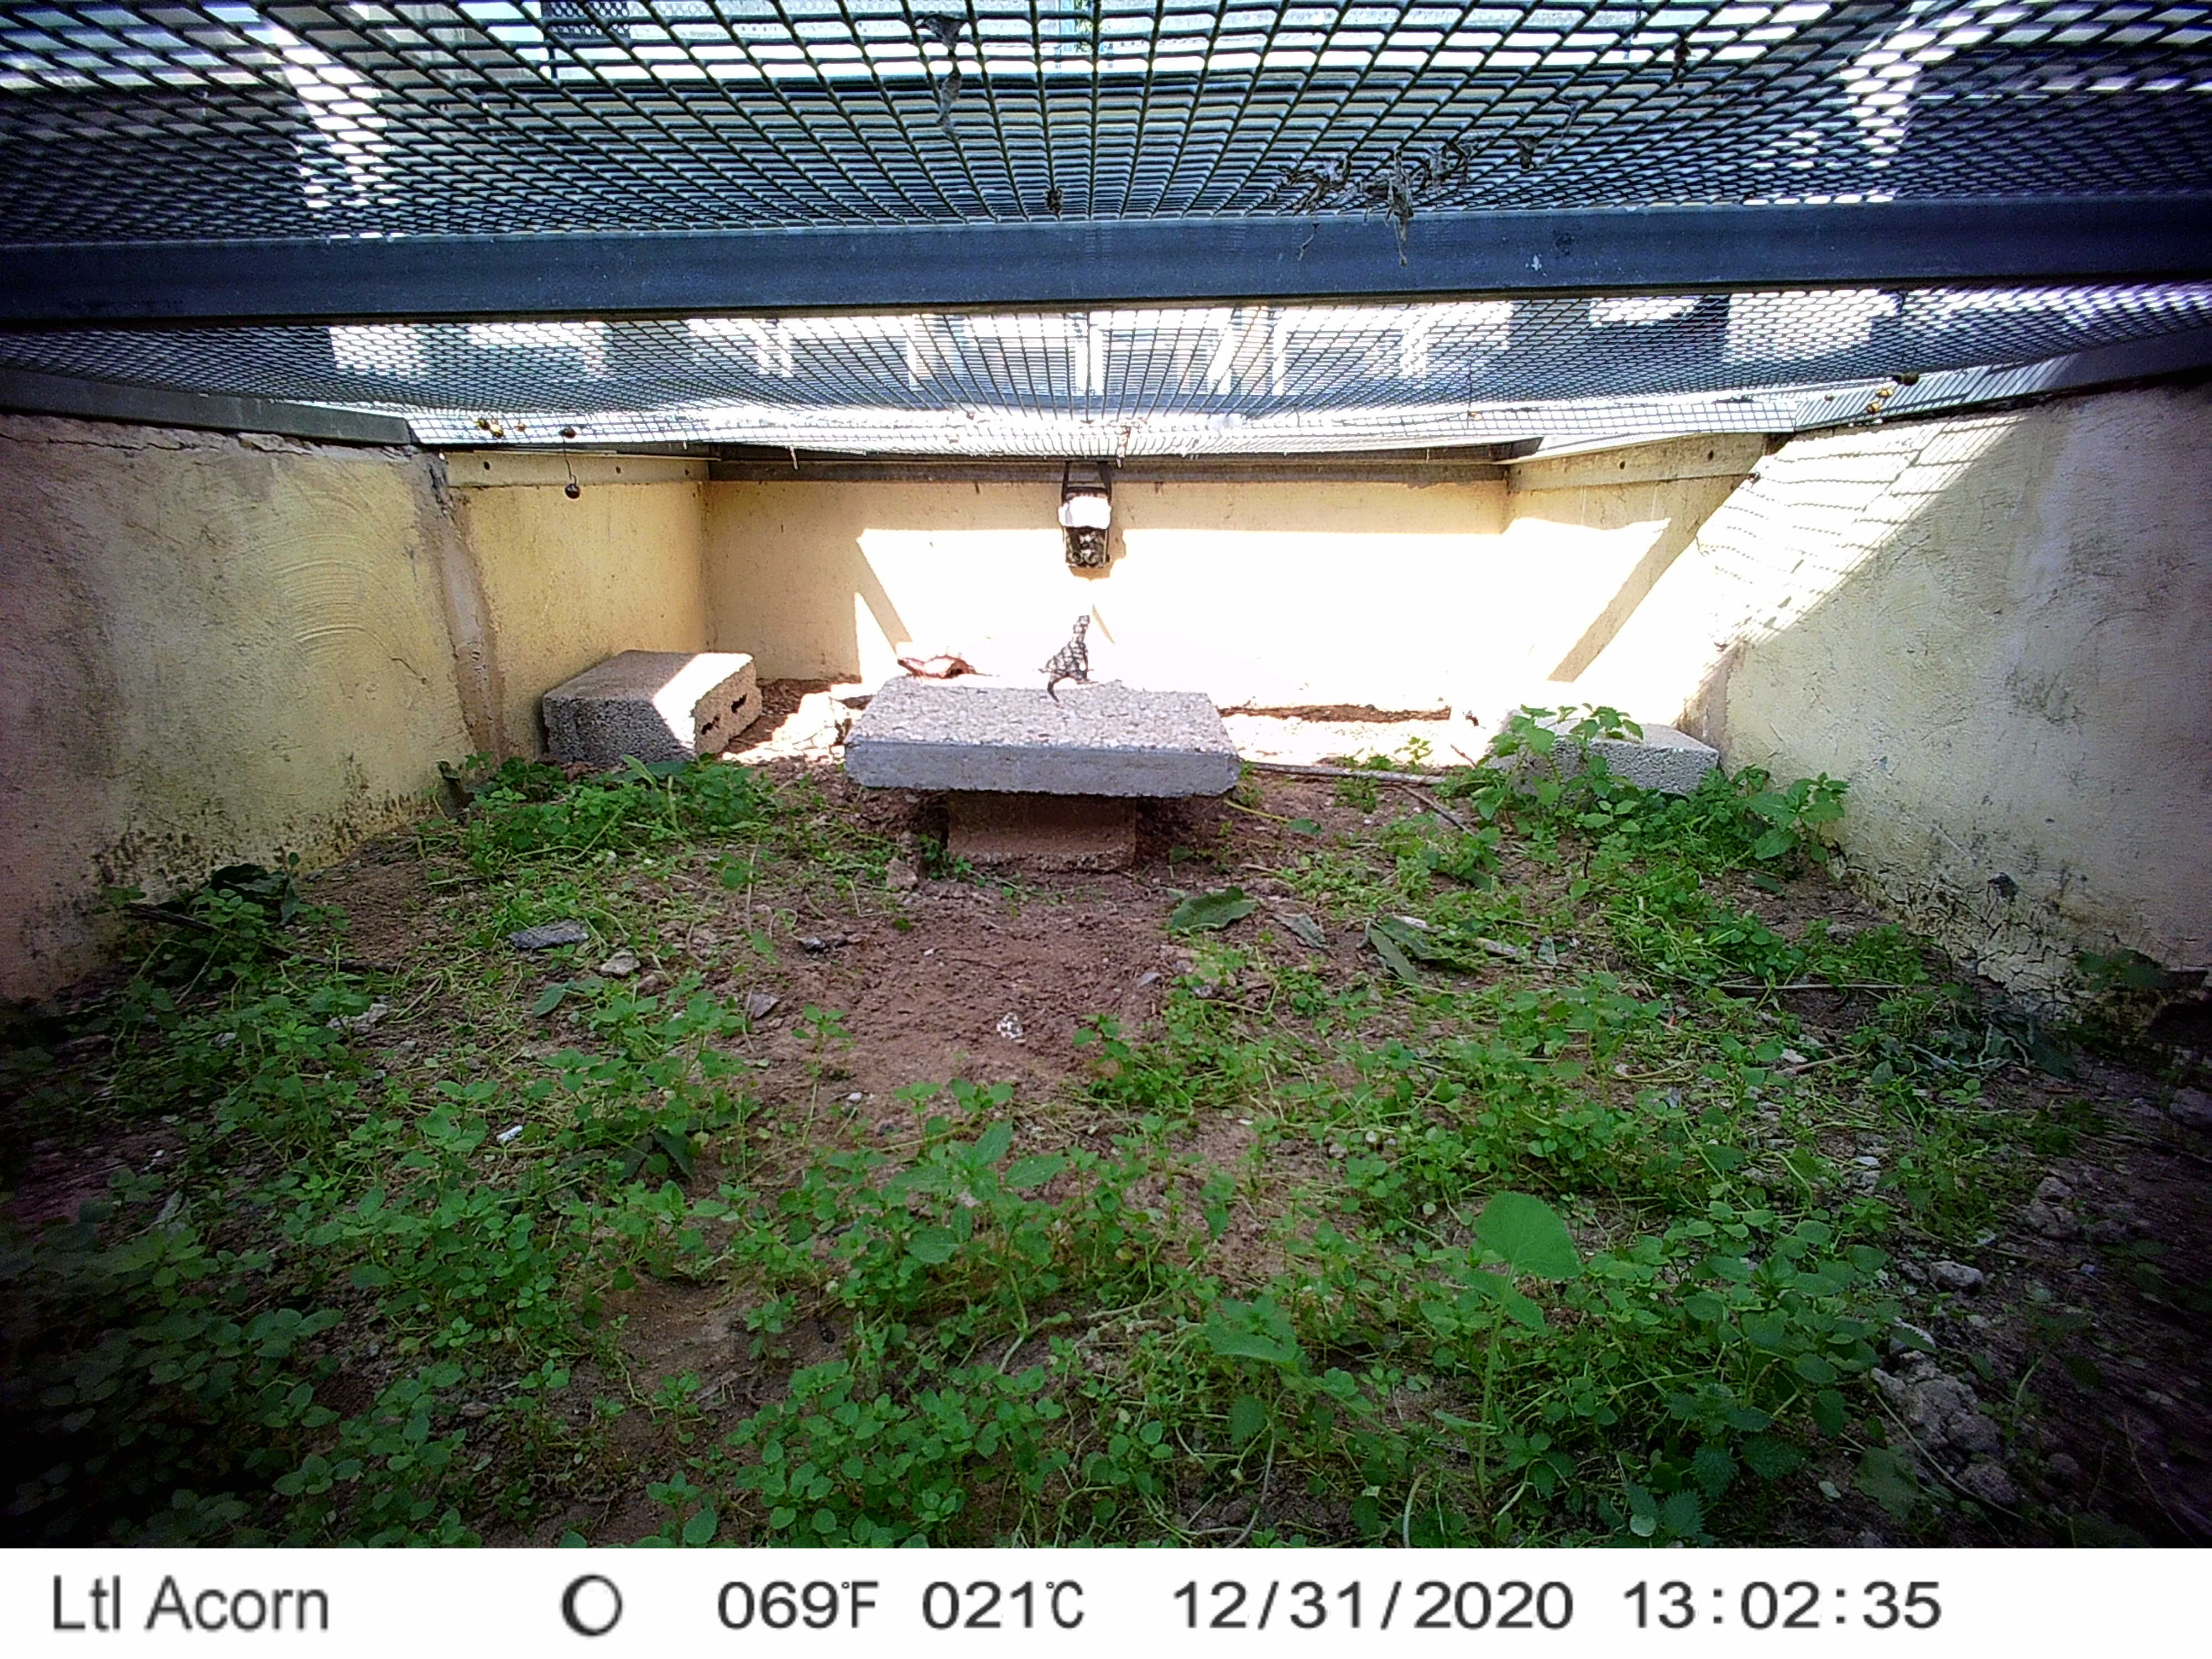lizard: (1035, 608, 1097, 706)
